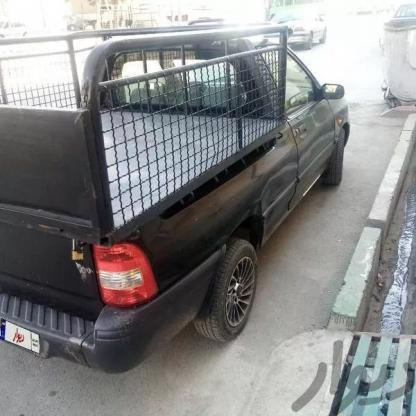Car: (0, 5, 376, 366), (265, 11, 330, 51)
